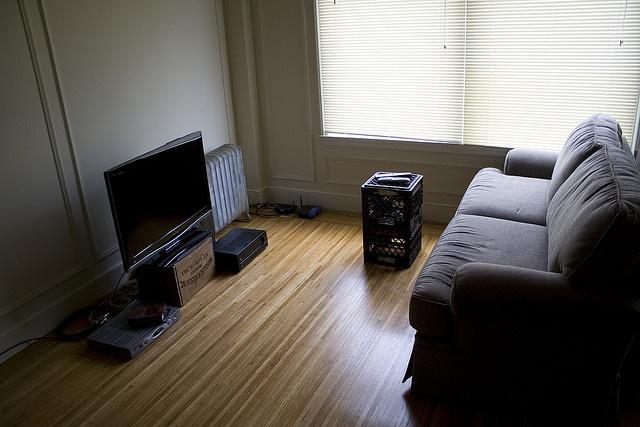AIO PC-Monitor-TV: (101, 129, 213, 273)
